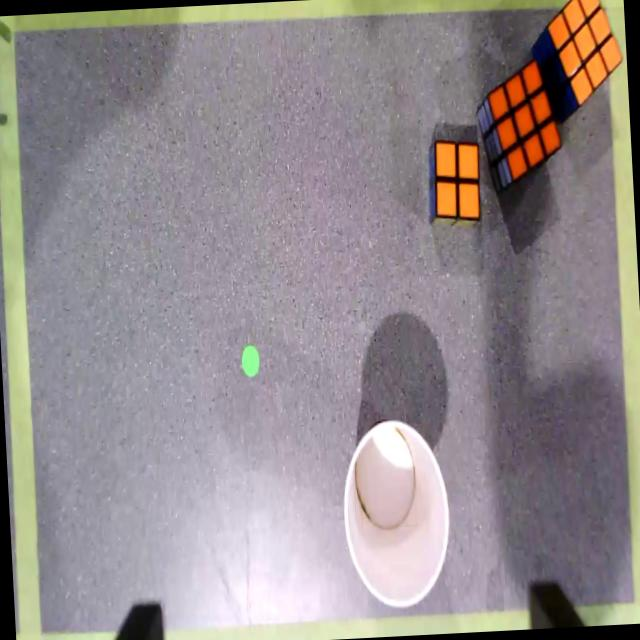cube2-orange: (436, 141, 480, 219)
cube3-orange: (488, 60, 562, 183), (547, 0, 623, 107)
